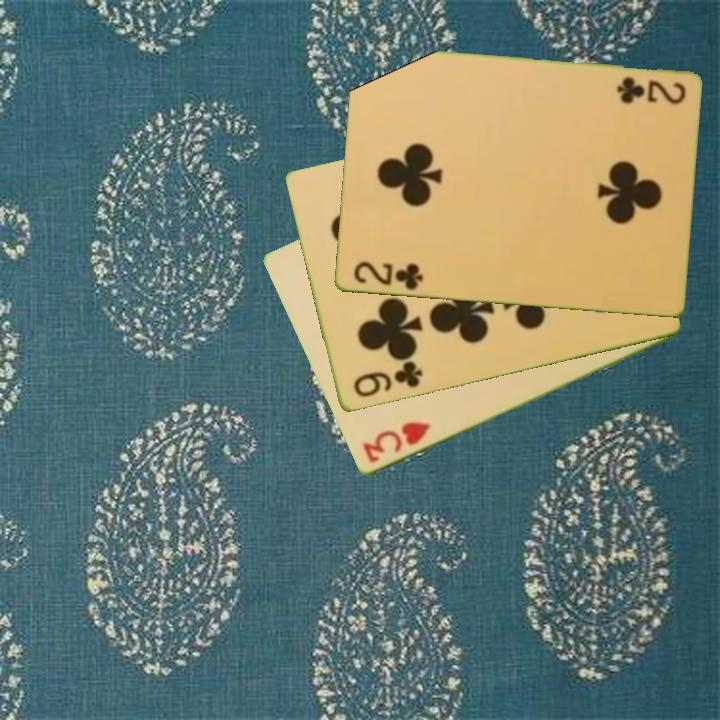2c: (349, 258, 426, 294), (612, 74, 688, 108)
3h: (358, 418, 434, 466)
9c: (349, 358, 425, 401)
